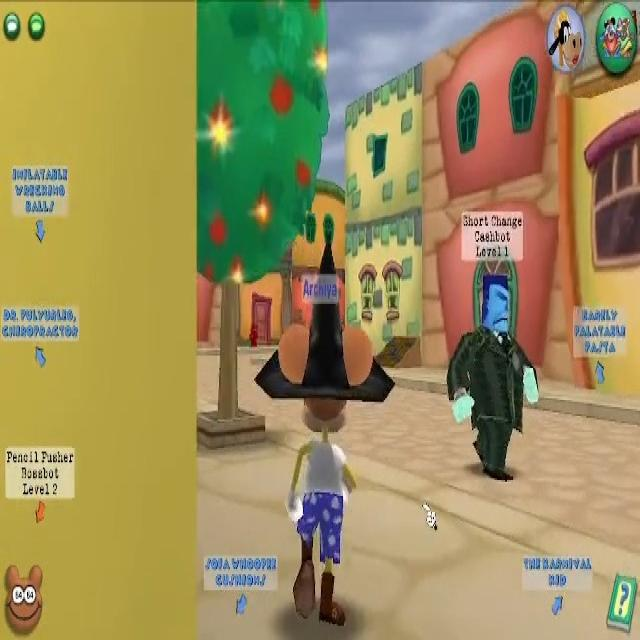shortchange: (447, 210, 538, 486)
